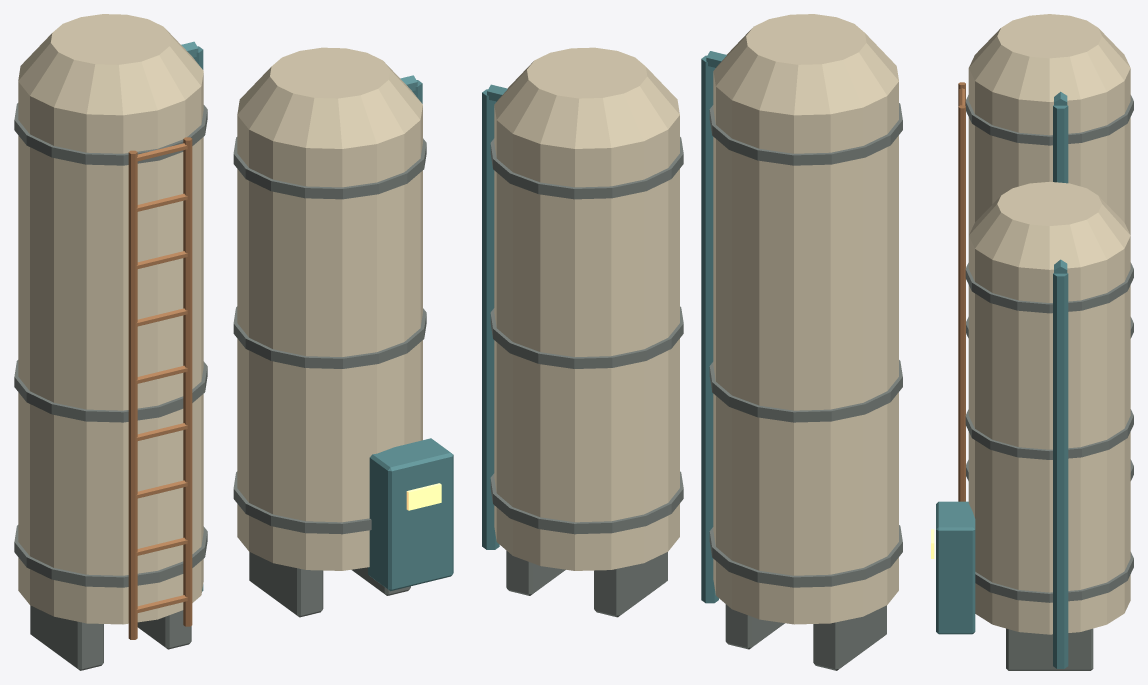
File: hsinchu_tank_pair_v2.glb
The picture shows the model from 3 angles, left to right: view 1: azimuth 30°, elevation 25°; view 2: azimuth 150°, elevation 25°; view 3: azimuth 270°, elevation 25°; orthographic projection. The views are drawn at different scales.
Visible parts, largest first — view 1: hsinchu_tank_pair_v2__hsinchu-pale-trim, hsinchu_tank_pair_v2__hsinchu-warm-concrete, hsinchu_tank_pair_v2__hsinchu-machinery, hsinchu_tank_pair_v2__hsinchu-copper, hsinchu_tank_pair_v2__hsinchu-teal, hsinchu_tank_pair_v2__warm-window; view 2: hsinchu_tank_pair_v2__hsinchu-pale-trim, hsinchu_tank_pair_v2__hsinchu-warm-concrete, hsinchu_tank_pair_v2__hsinchu-machinery, hsinchu_tank_pair_v2__hsinchu-teal; view 3: hsinchu_tank_pair_v2__hsinchu-pale-trim, hsinchu_tank_pair_v2__hsinchu-warm-concrete, hsinchu_tank_pair_v2__hsinchu-teal, hsinchu_tank_pair_v2__hsinchu-machinery, hsinchu_tank_pair_v2__hsinchu-copper.
Boxes of the visible parts, x1,y1,x2,y2 form: hsinchu_tank_pair_v2__hsinchu-pale-trim: (18,73,422,624); hsinchu_tank_pair_v2__hsinchu-warm-concrete: (18,14,422,148); hsinchu_tank_pair_v2__hsinchu-machinery: (14,103,426,670); hsinchu_tank_pair_v2__hsinchu-copper: (128,137,192,639); hsinchu_tank_pair_v2__hsinchu-teal: (181,41,453,591); hsinchu_tank_pair_v2__warm-window: (406,483,441,510); hsinchu_tank_pair_v2__hsinchu-pale-trim: (494,71,898,624); hsinchu_tank_pair_v2__hsinchu-warm-concrete: (494,14,898,148); hsinchu_tank_pair_v2__hsinchu-machinery: (490,103,902,670); hsinchu_tank_pair_v2__hsinchu-teal: (482,51,726,603); hsinchu_tank_pair_v2__hsinchu-pale-trim: (968,68,1130,634); hsinchu_tank_pair_v2__hsinchu-warm-concrete: (969,14,1130,269); hsinchu_tank_pair_v2__hsinchu-teal: (936,91,1068,668); hsinchu_tank_pair_v2__hsinchu-machinery: (965,95,1133,670); hsinchu_tank_pair_v2__hsinchu-copper: (958,82,965,501).
Size of the model in its own units: 34.9 by 50.1 by 17.74.
